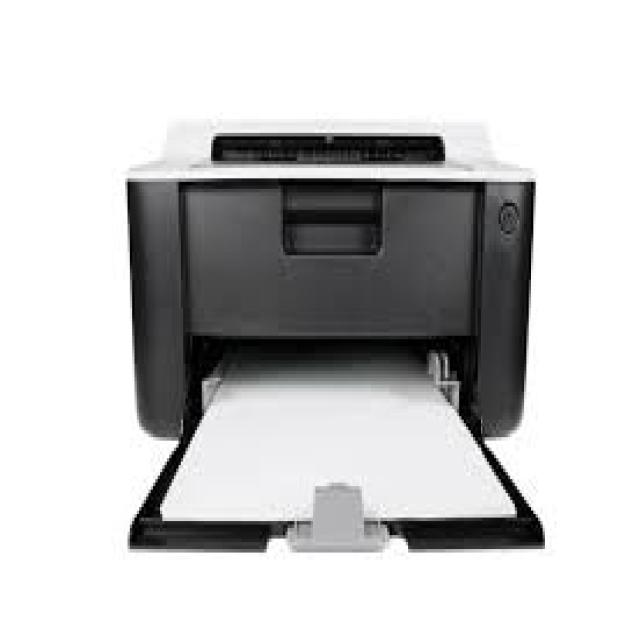printer: (102, 87, 568, 598)
